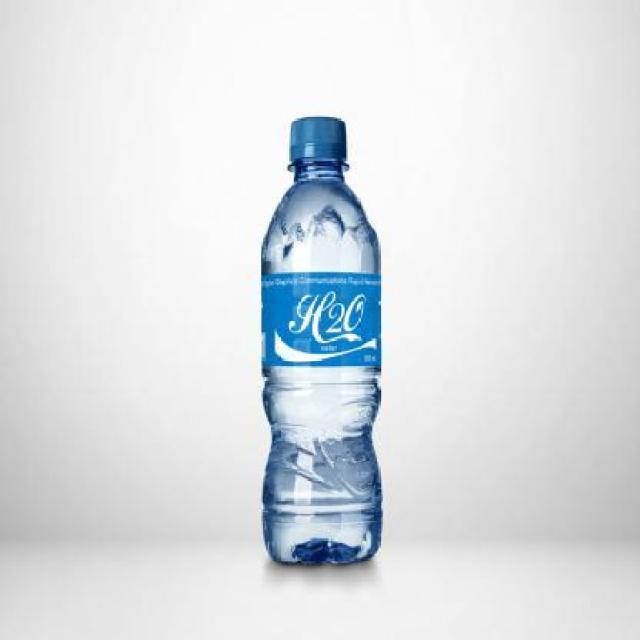bottle: (257, 112, 386, 567)
